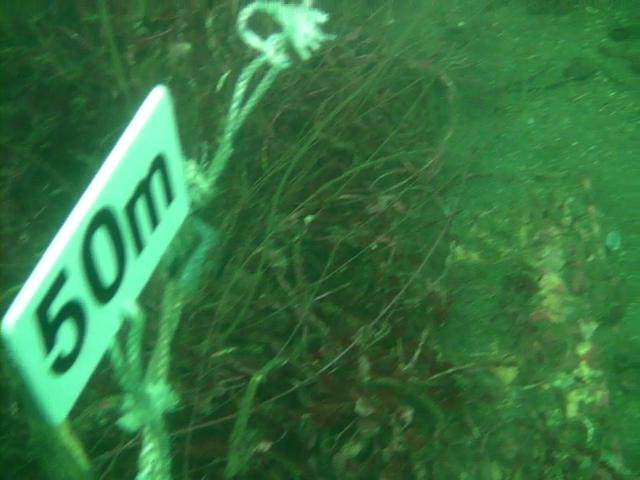bundle of ropes: (107, 0, 292, 480)
